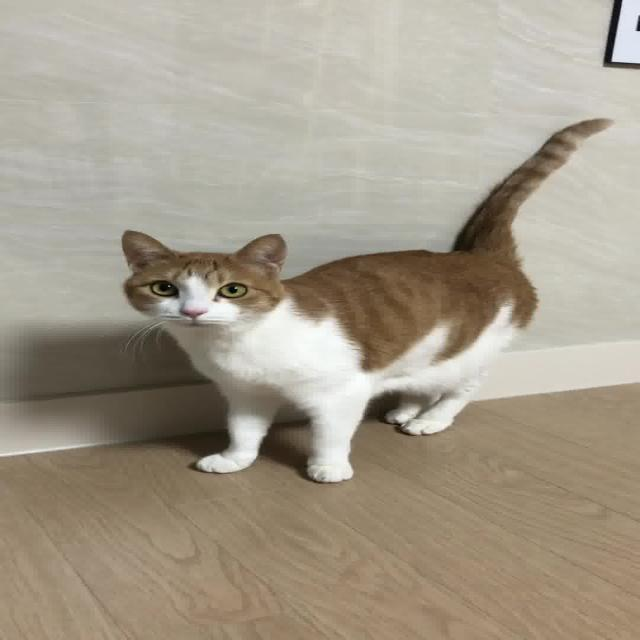cat: (90, 109, 632, 498)
